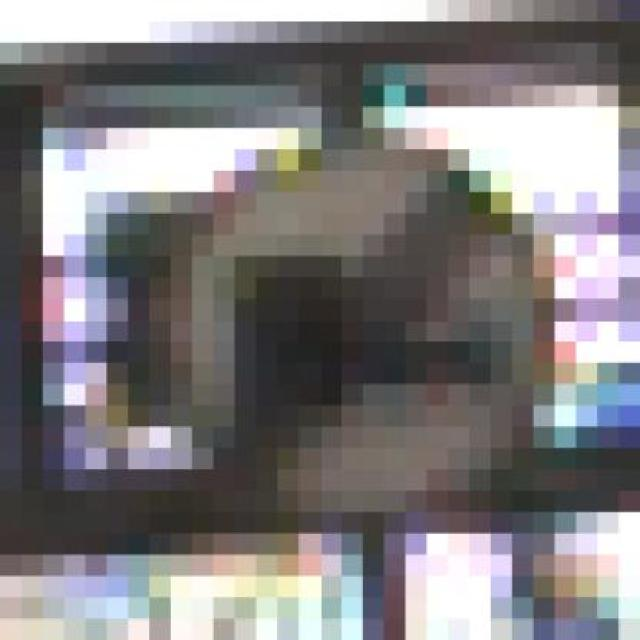Overtaking by trucks is prohibited: (106, 107, 619, 555)
